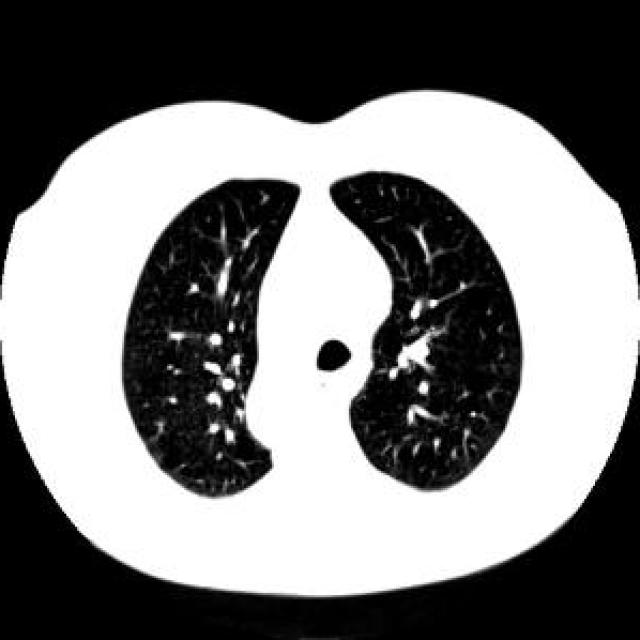Tumor: (462, 280, 464, 289)
